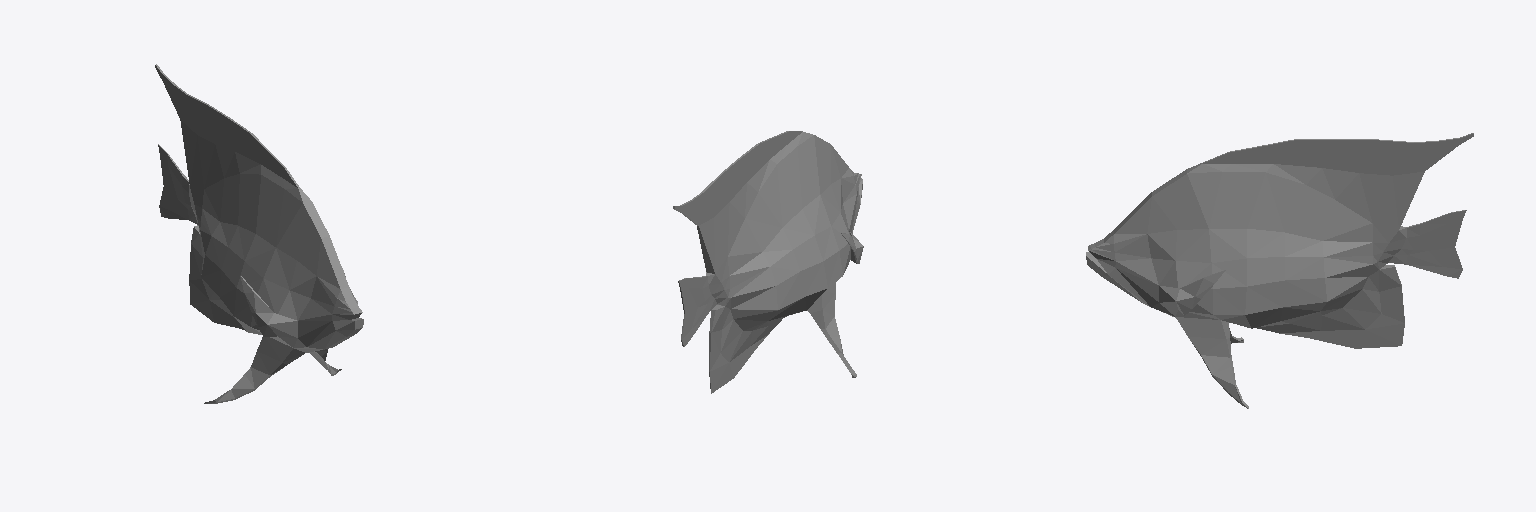
File: TropicalFish15.obj
3 views of the same model, side by side, from view 1: azimuth 30°, elevation 25°; view 2: azimuth 150°, elevation 25°; view 3: azimuth 270°, elevation 25° (orthographic).
Visible parts, largest first — view 1: TropicalFish15; view 2: TropicalFish15; view 3: TropicalFish15.
Boxes of the visible parts, x1,y1,x2,y2 form: TropicalFish15: [155, 64, 363, 403]; TropicalFish15: [673, 131, 863, 393]; TropicalFish15: [1086, 133, 1473, 408].
Size of the model in its own units: 3.65 by 6.01 by 8.72.